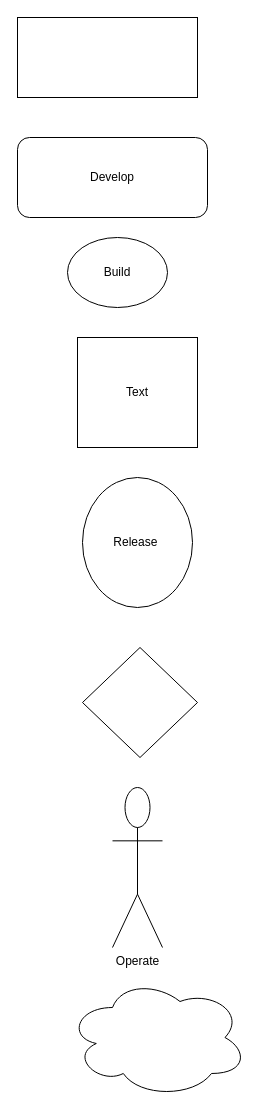
Some shapes in this 265 by 1115 pixel diagram are drawn without their labels. Here are the shapes that lost their labels. From the top down, the box of each, then its label:
(16, 16, 198, 98): Plane
(82, 646, 198, 758): Deploy
(66, 976, 248, 1098): Monitor
